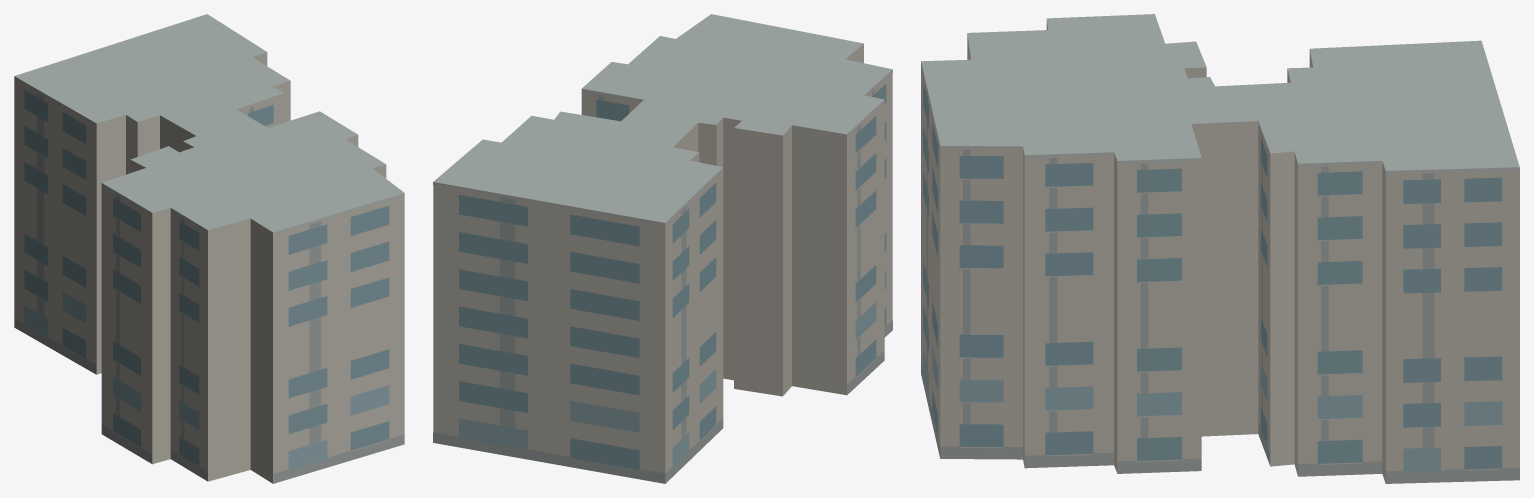
Rendered from survey-upis-32732508.glb.
The picture shows the model from 3 angles, left to right: view 1: azimuth 30°, elevation 25°; view 2: azimuth 150°, elevation 25°; view 3: azimuth 270°, elevation 25°; orthographic projection. The views are drawn at different scales.
Parts seen in each view (by area): view 1: survey-upis-32732508.tmp; view 2: survey-upis-32732508.tmp; view 3: survey-upis-32732508.tmp.
Boxes of the visible parts, x1,y1,x2,y2 form: survey-upis-32732508.tmp: (14, 14, 404, 483); survey-upis-32732508.tmp: (433, 14, 892, 483); survey-upis-32732508.tmp: (921, 14, 1519, 483).
Bounding box in the file's own units: 22.21 × 20.65 × 35.81.
